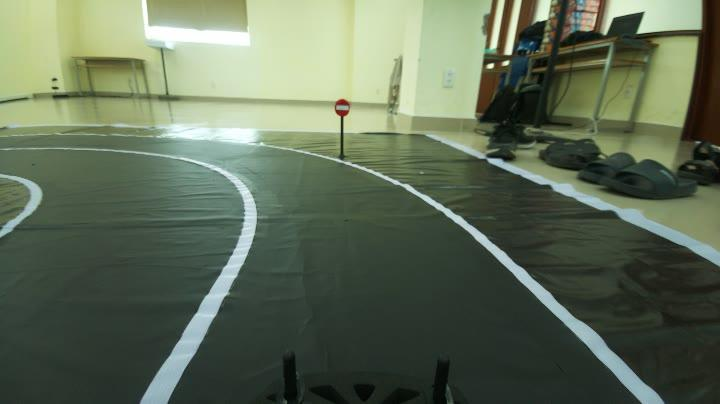no_entry: (334, 97, 350, 120)
